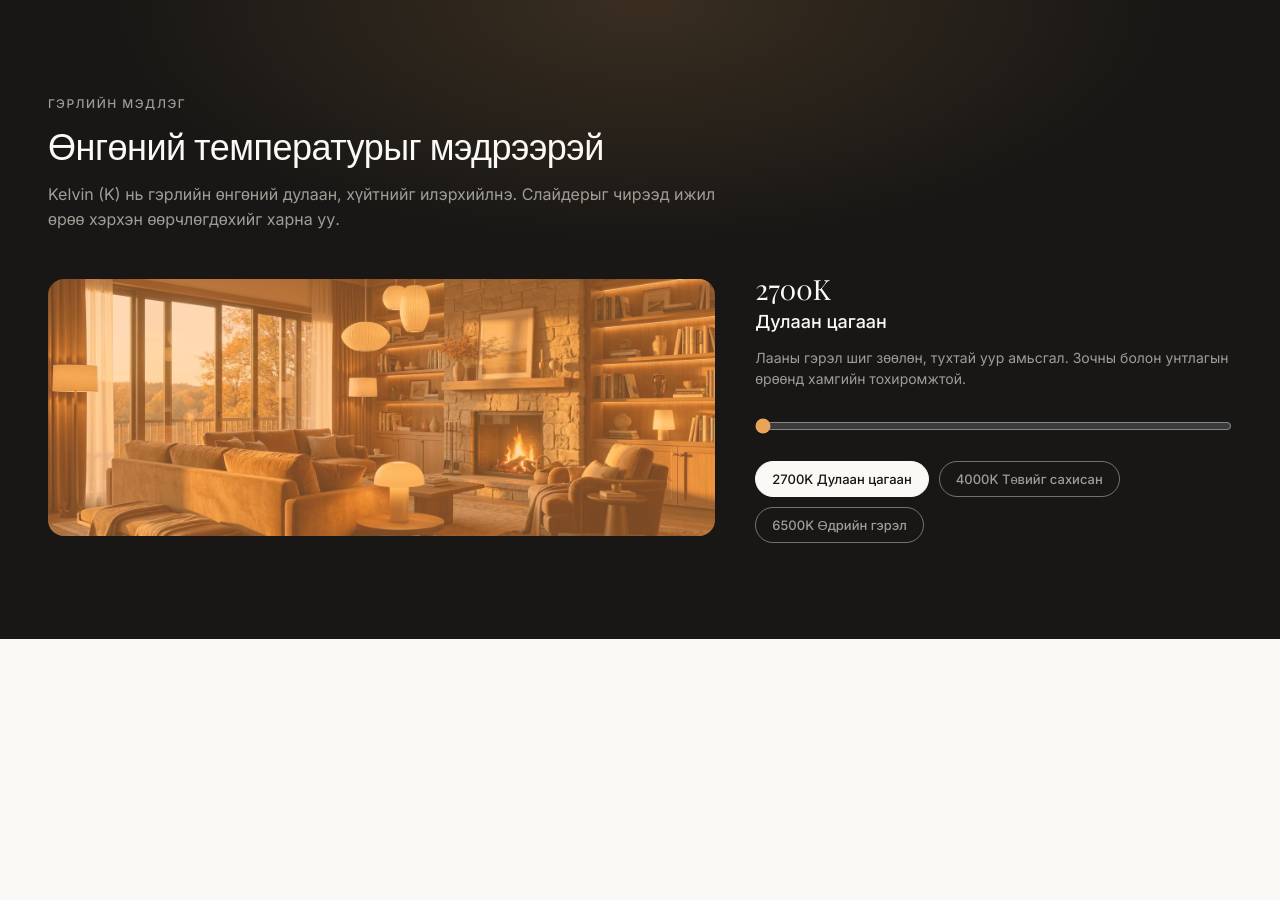
Scenario: KelvinDemo › бэлэн тохиргооны товч дарахад тухайн утга руу шилжинэ
Click the button "4000K Төвийг сахисан" at (1029, 479), box [939,461,1120,497]
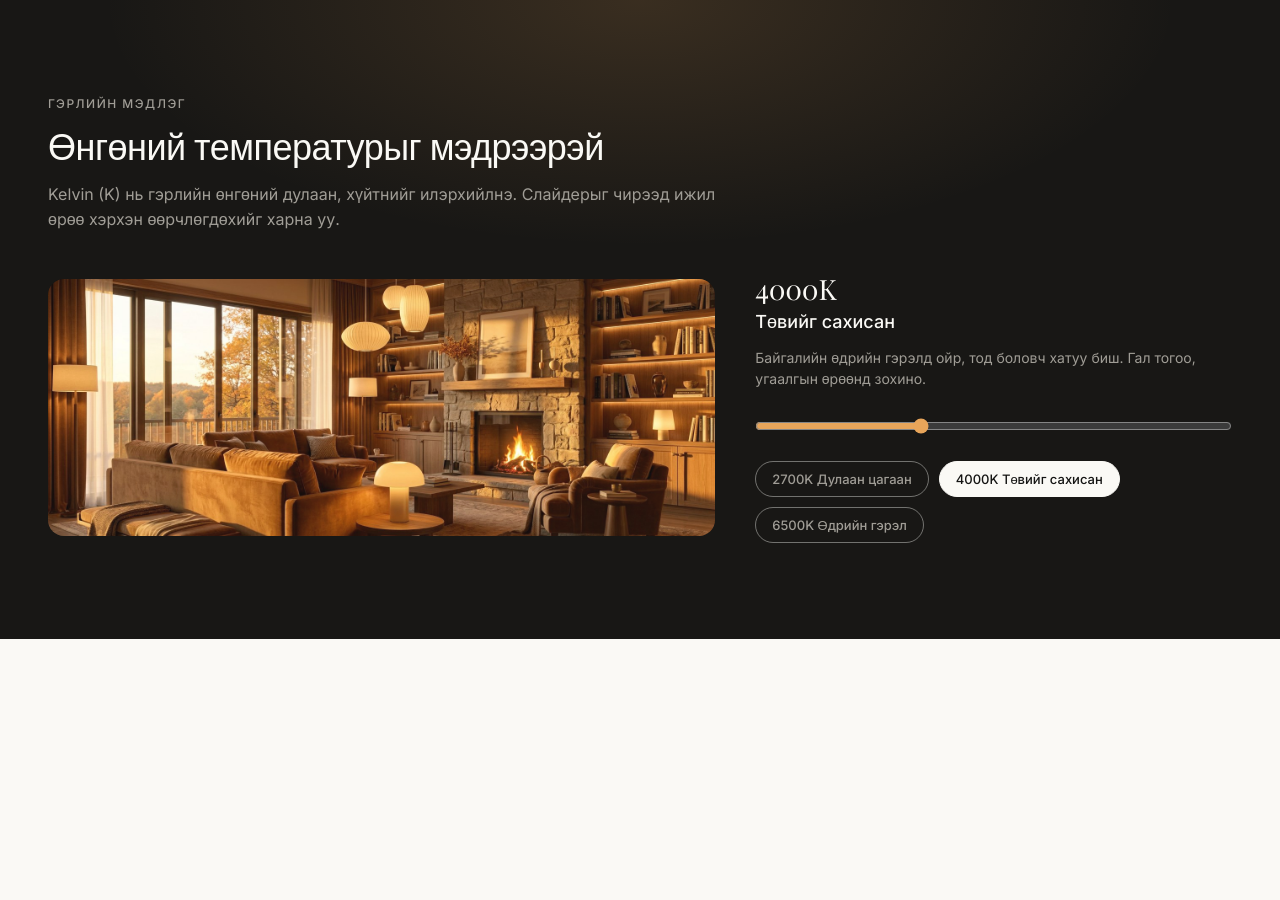
Check: the slider holds "4000", box [755,418,1232,434]
